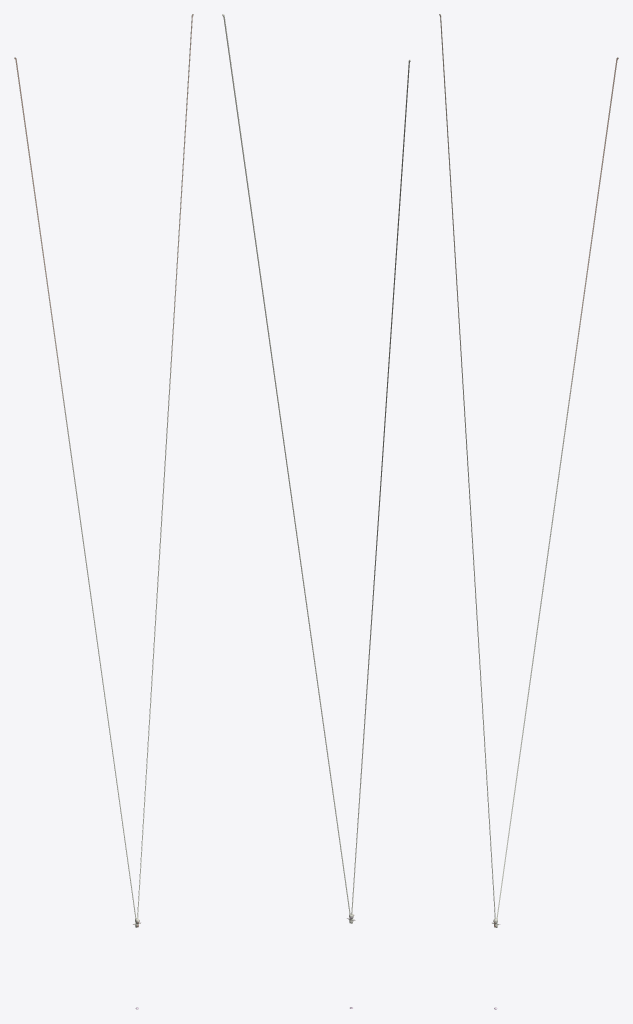
File: modern_diner.glb
The picture shows the model from 3 angles, left to right: view 1: azimuth 30°, elevation 25°; view 2: azimuth 150°, elevation 25°; view 3: azimuth 330°, elevation 25°; orthographic projection. The views are drawn at different scales.
Visible parts, largest first — view 1: 0; view 2: 0; view 3: 0.
Boxes of the visible parts, x1,y1,x2,y2 form: 0: (14, 14, 193, 927); 0: (222, 14, 410, 923); 0: (439, 14, 618, 927).
Size of the model in its own units: 662 by 3354 by 224.
Materials: 56 (55 with a texture image).
